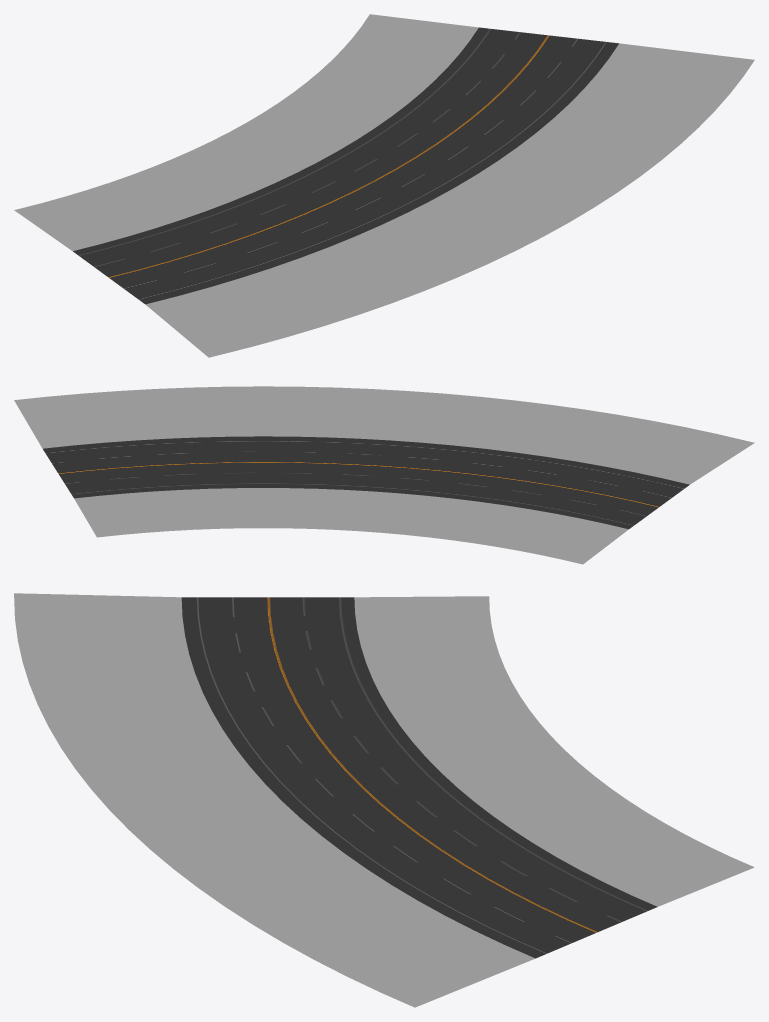
File: Road_turn.fbx
3 views of the same model, one above another, from view 1: azimuth 30°, elevation 25°; view 2: azimuth 150°, elevation 25°; view 3: azimuth 270°, elevation 25° (orthographic). The views are drawn at different scales.
Parts seen in each view (by area): view 1: road_turn_roadsideR, road_turn_road, road_turn_roadsideL; view 2: road_turn_roadsideR, road_turn_road, road_turn_roadsideL; view 3: road_turn_roadsideR, road_turn_road, road_turn_roadsideL.
Boxes of the visible parts, left/top/right/bottom form: road_turn_roadsideR: left=145, top=43, right=754, bottom=357; road_turn_road: left=73, top=27, right=618, bottom=304; road_turn_roadsideL: left=14, top=14, right=478, bottom=251; road_turn_roadsideR: left=14, top=386, right=754, bottom=484; road_turn_road: left=43, top=436, right=689, bottom=529; road_turn_roadsideL: left=74, top=488, right=628, bottom=564; road_turn_roadsideR: left=14, top=593, right=535, bottom=1007; road_turn_road: left=181, top=597, right=657, bottom=958; road_turn_roadsideL: left=354, top=596, right=754, bottom=906.
Size of the model in its own units: 11165 by 6.1e-05 by 8436.
